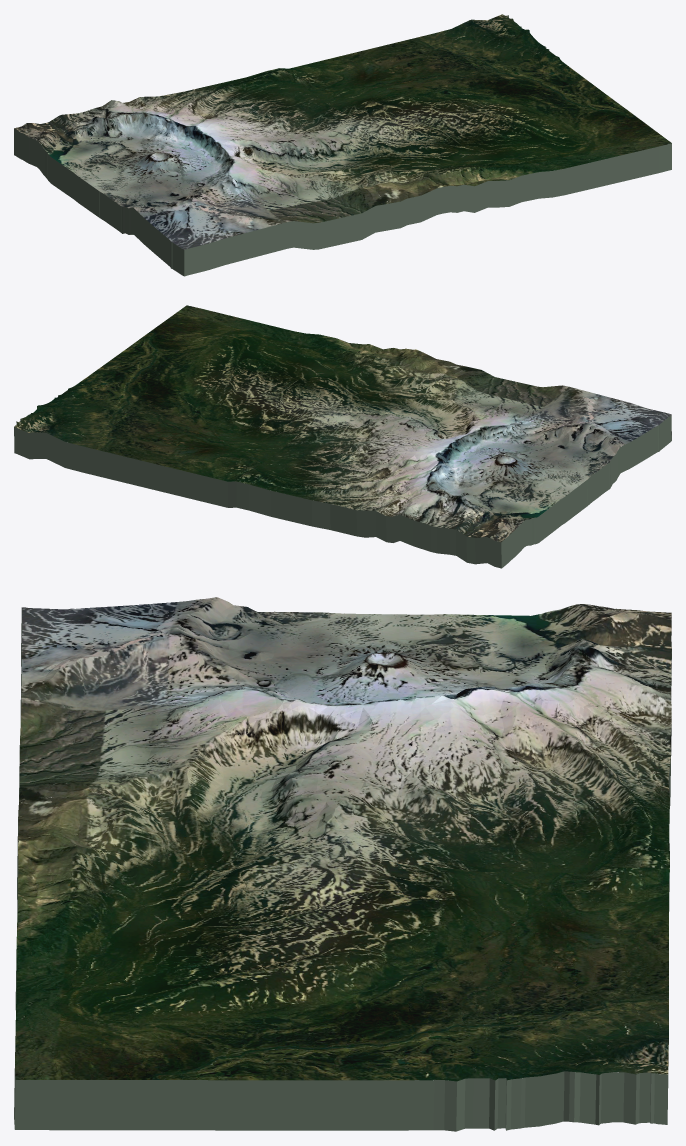
Rendered from anianchak.gltf.
3 renders of one model, top to bottom at view 1: azimuth 30°, elevation 25°; view 2: azimuth 150°, elevation 25°; view 3: azimuth 270°, elevation 25°, orthographic. The views are drawn at different scales.
Visible parts, largest first — view 1: Anianchak, skirt; view 2: Anianchak, skirt; view 3: Anianchak, skirt.
Boxes of the visible parts, left/top/right/bottom form: Anianchak: left=14, top=14, right=671, bottom=249; skirt: left=14, top=15, right=671, bottom=276; Anianchak: left=14, top=305, right=671, bottom=542; skirt: left=14, top=396, right=671, bottom=568; Anianchak: left=15, top=597, right=671, bottom=1081; skirt: left=14, top=612, right=671, bottom=1131.
Size of the model in its own units: 26.91 by 2.65 by 16.39.
Materials: 2 (1 with a texture image).
